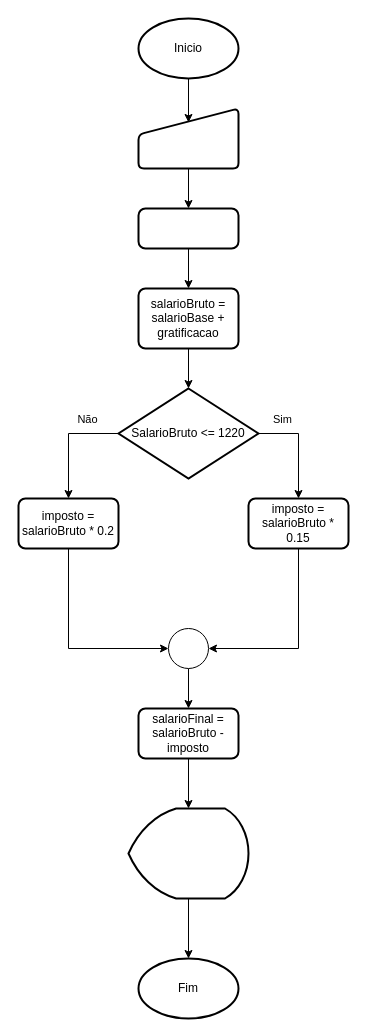
This 366x1036 diagram has some shape labels left out. The shapes that lost their labels are listed below. From the top down, each one's box as (x1, y1, x2, y2) in pixels, then its label:
(137, 107, 239, 169): salarioBase
(137, 207, 239, 249): gratificacao = salarioBase * 0.1
(127, 807, 249, 899): salarioBase gratificacao salarioBruto imposto salarioFinal
